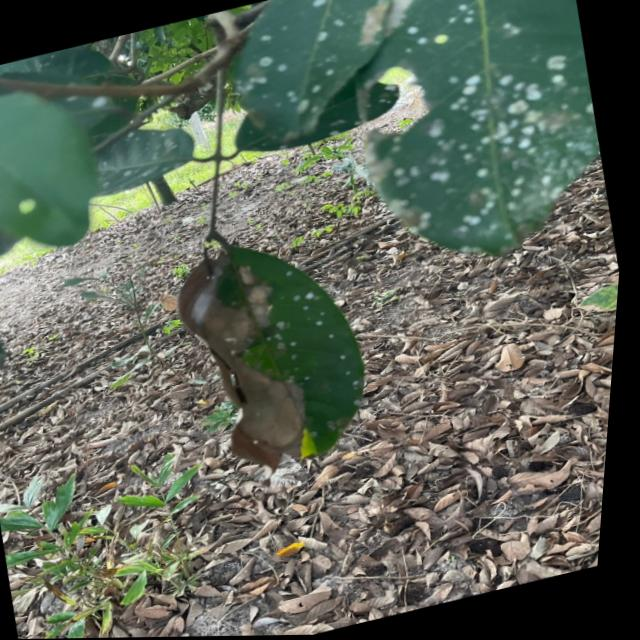Algal Leaf Spot: (352, 0, 625, 257), (210, 220, 409, 436), (222, 0, 392, 119)
